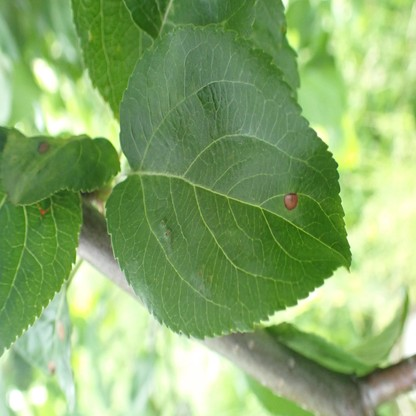frogeye_leaf_spot: (283, 192, 299, 210), (36, 140, 51, 154), (39, 205, 49, 216)
